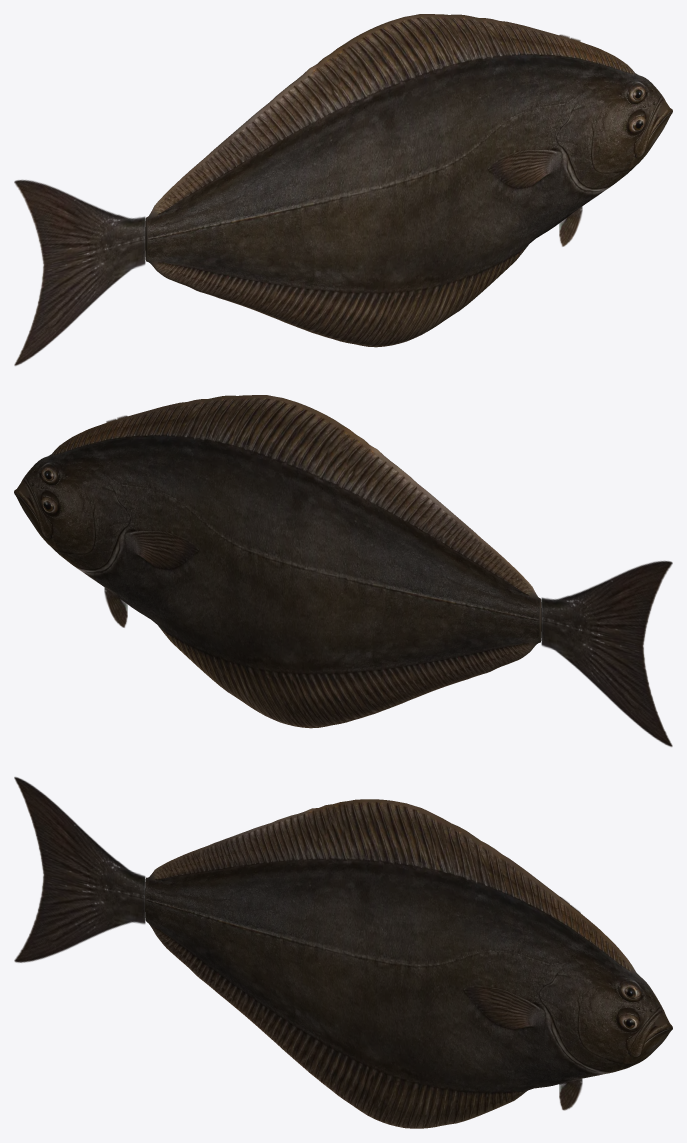
File: hippoglossus_hippoglossus.glb
The picture shows the model from 3 angles, top to bottom: view 1: azimuth 30°, elevation 25°; view 2: azimuth 150°, elevation 25°; view 3: azimuth 330°, elevation 25°; orthographic projection.
Visible parts, largest first — view 1: hippoglossus_hippoglossus; view 2: hippoglossus_hippoglossus; view 3: hippoglossus_hippoglossus.
Boxes of the visible parts, x1,y1,x2,y2 form: hippoglossus_hippoglossus: (14, 14, 672, 365); hippoglossus_hippoglossus: (14, 395, 672, 746); hippoglossus_hippoglossus: (14, 777, 672, 1128).
Bounding box in the file's own units: 4.71 × 2.21 × 0.3539.
1 material, 1 textured.
